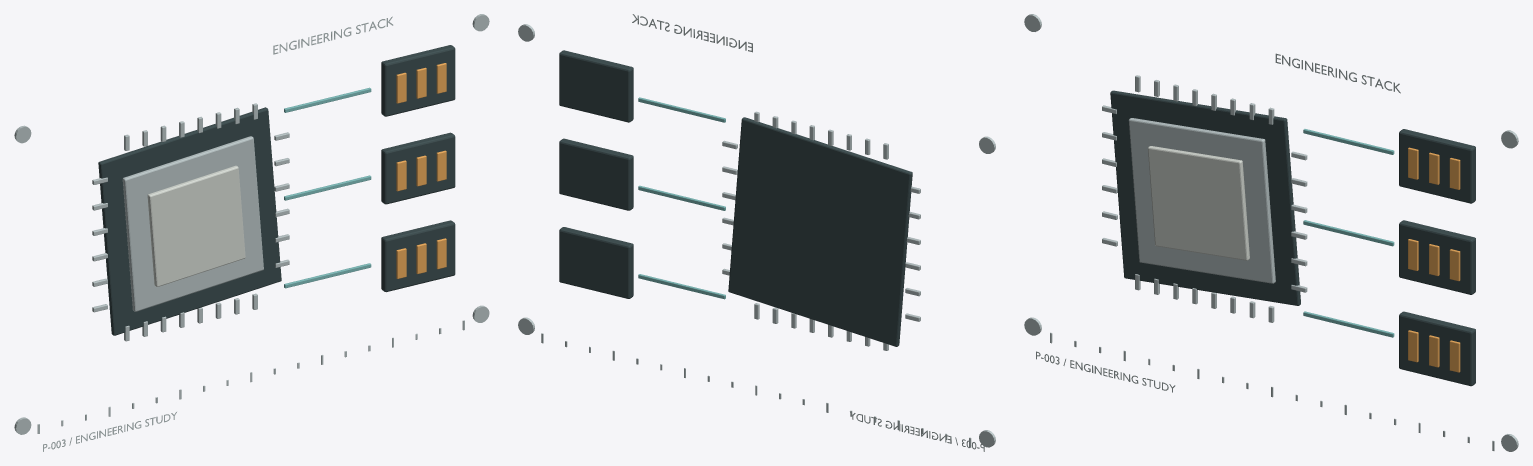
Rendered from skills.glb.
3 renders of one model, left to right at view 1: azimuth 30°, elevation 25°; view 2: azimuth 150°, elevation 25°; view 3: azimuth 330°, elevation 25°, orthographic. The views are drawn at different scales.
Parts seen in each view (by area): view 1: optical-core__Project_Graphite.002, optical-core__Project_Silver.001, optical-core__Project_Ceramic.002, optical-lenses__Project_Silver.002, optical-core__Project_Amber.002, optical-lenses__Project_Trace.002; view 2: optical-core__Project_Graphite.002, optical-lenses__Project_Silver.002, optical-lenses__Project_Trace.002; view 3: optical-core__Project_Graphite.002, optical-core__Project_Silver.001, optical-core__Project_Ceramic.002, optical-lenses__Project_Silver.002, optical-core__Project_Amber.002, optical-lenses__Project_Trace.002.
Part boxes in pixels (x1,y1,x2,y2): optical-core__Project_Graphite.002: [98, 45, 455, 335]; optical-core__Project_Silver.001: [122, 136, 263, 311]; optical-core__Project_Ceramic.002: [147, 165, 245, 286]; optical-lenses__Project_Silver.002: [14, 14, 489, 451]; optical-core__Project_Amber.002: [396, 63, 446, 278]; optical-lenses__Project_Trace.002: [284, 87, 371, 288]; optical-core__Project_Graphite.002: [559, 50, 912, 346]; optical-lenses__Project_Silver.002: [518, 14, 995, 451]; optical-lenses__Project_Trace.002: [638, 97, 725, 299]; optical-core__Project_Graphite.002: [1110, 90, 1475, 386]; optical-core__Project_Silver.001: [1128, 118, 1275, 283]; optical-core__Project_Ceramic.002: [1148, 146, 1249, 260]; optical-lenses__Project_Silver.002: [1024, 14, 1518, 451]; optical-core__Project_Amber.002: [1408, 147, 1460, 372]; optical-lenses__Project_Trace.002: [1303, 129, 1394, 337].
Size of the model in its own units: 4.01 by 2.83 by 0.1417.
